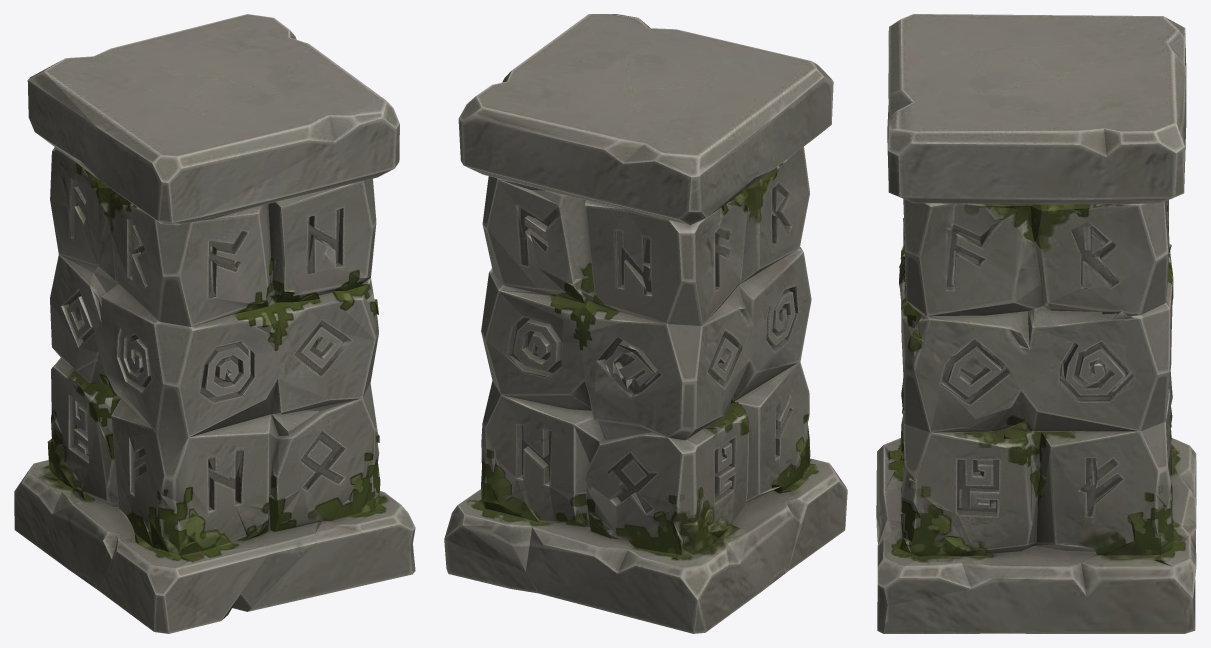
Rendered from pillar.glb.
The picture shows the model from 3 angles, left to right: view 1: azimuth 30°, elevation 25°; view 2: azimuth 150°, elevation 25°; view 3: azimuth 270°, elevation 25°; orthographic projection. The views are drawn at different scales.
Bounding box in the file's own units: 1.11 × 1.9 × 1.11.
1 material, 1 textured.
